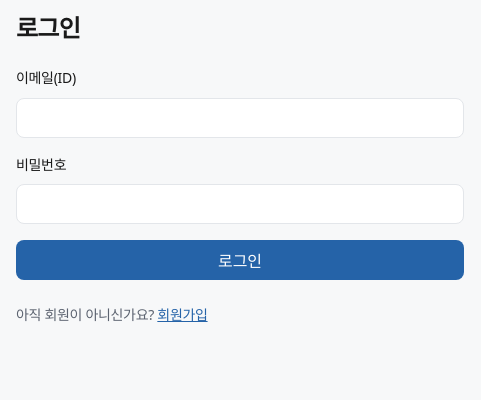
Test: 로그인 폼 클라이언트 검증 › 빈 값으로 제출하면 요청을 보내지 않고 안내를 표시한다
Click the button "로그인". click: {"x": 240, "y": 260}
box: [16, 240, 464, 280]
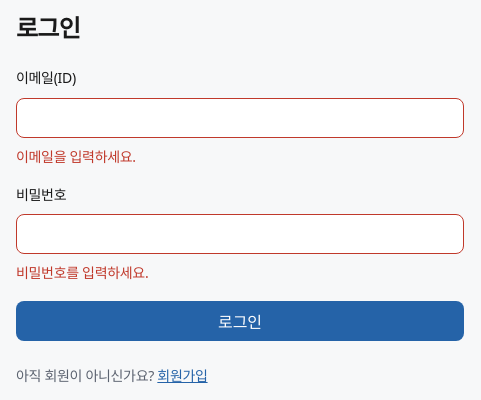
Expected: the text "이메일을 입력하세요." is shown, [16, 147, 136, 166]
Expected: the text "비밀번호를 입력하세요." is shown, [16, 263, 148, 282]
